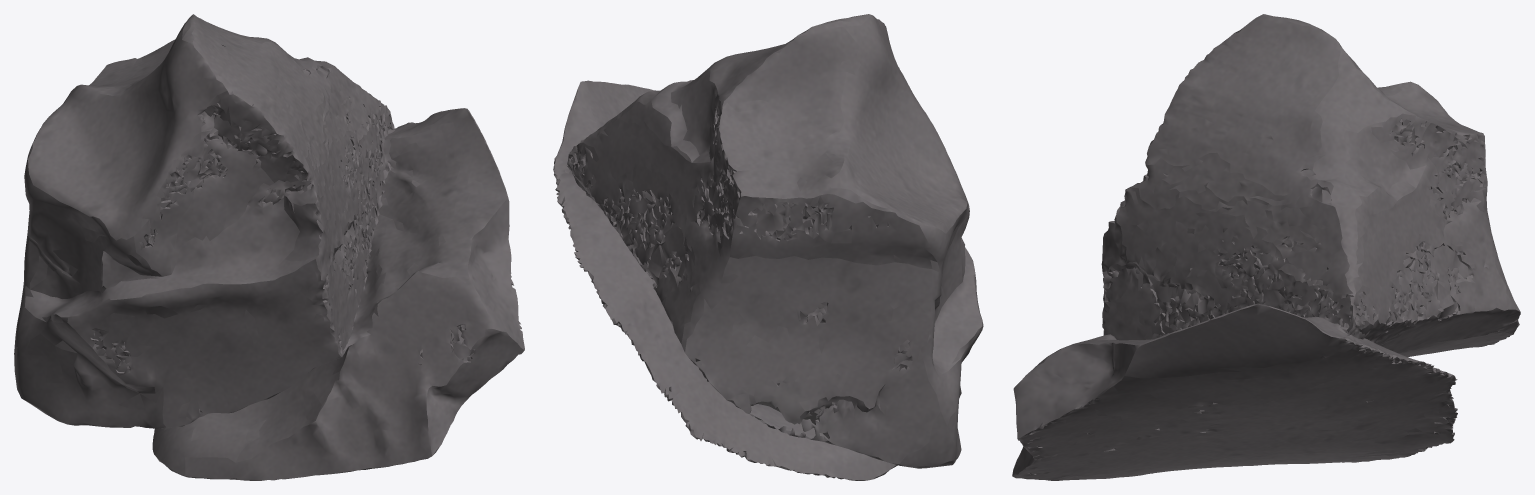
The picture shows the model from 3 angles, left to right: view 1: azimuth 30°, elevation 25°; view 2: azimuth 150°, elevation 25°; view 3: azimuth 270°, elevation 25°; orthographic projection. The views are drawn at different scales.
Parts seen in each view (by area): view 1: world; view 2: world; view 3: world.
Boxes of the visible parts, bbox=[...] form: world: bbox=[14, 14, 524, 480]; world: bbox=[553, 14, 983, 480]; world: bbox=[1012, 14, 1520, 480].
Bounding box in the file's own units: 0.12 × 0.1204 × 0.1205.
Materials: 1 (1 with a texture image).
